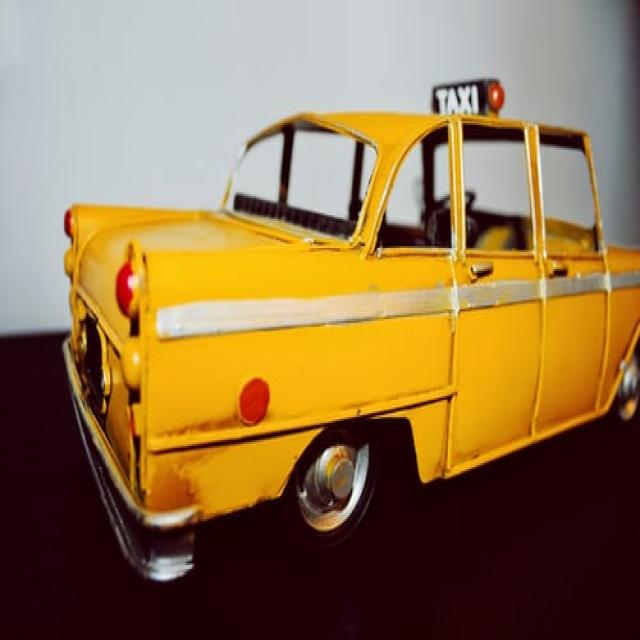Car: (60, 77, 639, 582)
